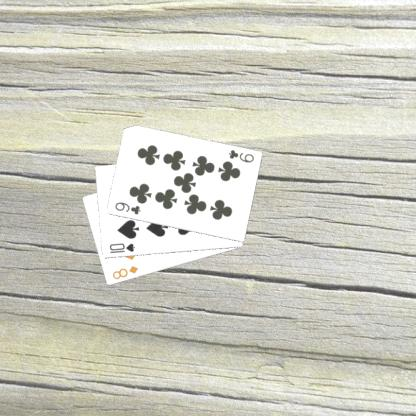10S: (106, 240, 136, 255)
8D: (110, 263, 140, 281)
9C: (112, 199, 142, 216), (226, 147, 256, 164)
